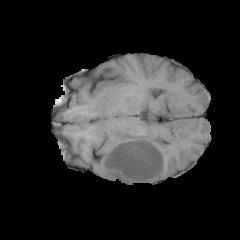glioma: (99, 134, 171, 184)
